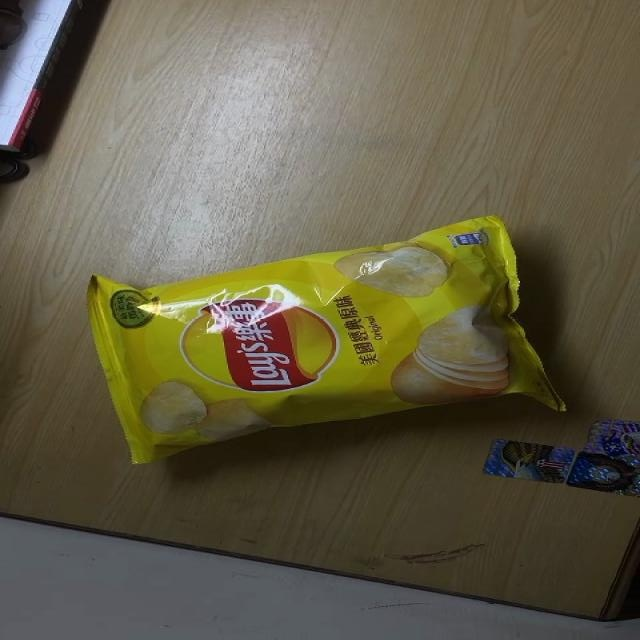Lay-s-original: (88, 215, 568, 467)
